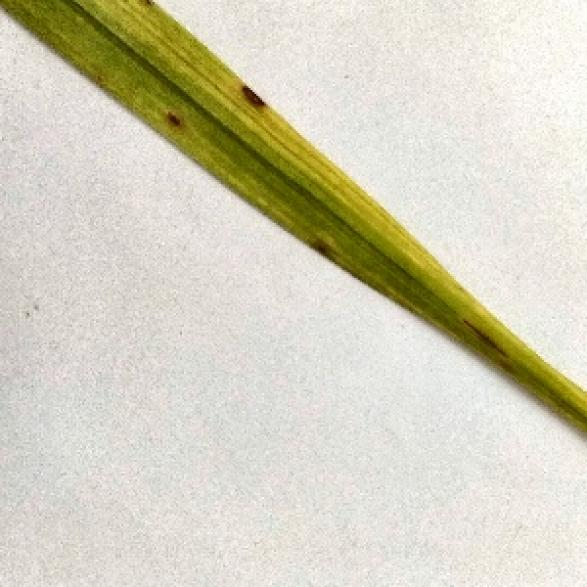Leaf_smut: (454, 301, 526, 372)
